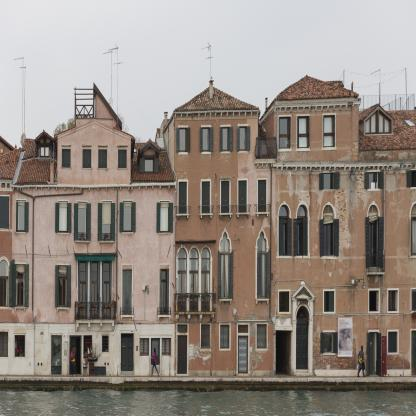Balcony: (75, 301, 116, 319)
Building Outline: (0, 74, 416, 376)
Cornice: (291, 284, 316, 301), (176, 240, 216, 244)
Door: (296, 321, 310, 370), (121, 333, 134, 375), (70, 335, 82, 375), (51, 335, 62, 375), (369, 332, 379, 376), (90, 280, 100, 319), (238, 335, 248, 373), (178, 335, 187, 374), (178, 272, 187, 311), (189, 272, 198, 311), (201, 272, 210, 311), (102, 281, 111, 319), (78, 281, 87, 319), (411, 331, 416, 376)
Facade: (0, 79, 416, 377)
Floor: (276, 167, 416, 279), (0, 248, 175, 324), (0, 189, 175, 247), (175, 226, 276, 315), (175, 168, 276, 226)
Floor Slab: (0, 319, 175, 324), (0, 185, 175, 189), (0, 243, 175, 247), (276, 163, 416, 167), (276, 275, 416, 279), (175, 221, 276, 226), (175, 311, 276, 316), (175, 164, 276, 168)
Ground Floor: (276, 279, 416, 375), (0, 324, 175, 375), (175, 316, 276, 376)
Molding: (12, 182, 176, 192), (272, 162, 416, 171), (273, 101, 362, 112), (173, 110, 261, 118), (0, 180, 12, 188)
Roof: (358, 103, 416, 152), (0, 138, 57, 185), (274, 74, 359, 102), (175, 85, 260, 112), (131, 141, 174, 183)
Sill: (254, 159, 276, 168), (255, 298, 270, 305), (176, 213, 190, 219), (199, 213, 213, 219), (157, 314, 171, 320), (219, 299, 232, 305), (218, 213, 233, 218), (255, 212, 270, 217), (57, 307, 69, 313), (236, 212, 250, 217), (121, 315, 134, 320), (14, 307, 26, 312), (366, 272, 385, 275), (99, 240, 115, 243), (75, 240, 90, 243), (57, 233, 70, 235), (121, 232, 134, 234)
Top Floor: (276, 99, 416, 167), (39, 127, 156, 189), (175, 111, 276, 168)
Window: (365, 110, 391, 134), (368, 218, 379, 268), (122, 270, 132, 315), (257, 253, 267, 298), (220, 253, 230, 298), (58, 265, 68, 307), (297, 218, 308, 256), (279, 218, 290, 256), (160, 270, 169, 315), (102, 202, 112, 241), (16, 264, 25, 307), (323, 116, 335, 148), (297, 116, 309, 148), (77, 202, 87, 240), (279, 117, 291, 148), (324, 221, 334, 256), (151, 338, 160, 374), (123, 201, 133, 232), (58, 202, 68, 232), (0, 196, 9, 229), (17, 200, 26, 232), (160, 201, 169, 232), (258, 180, 266, 212), (221, 181, 229, 213), (257, 324, 267, 349), (1, 276, 9, 307), (179, 182, 187, 213), (202, 182, 210, 213), (239, 181, 247, 212), (257, 230, 267, 252), (220, 231, 230, 253), (15, 336, 25, 358), (221, 325, 230, 349), (202, 128, 211, 152), (221, 127, 230, 151), (324, 332, 334, 353), (324, 291, 334, 312), (369, 291, 379, 312), (388, 332, 398, 353), (388, 290, 398, 311), (90, 260, 100, 281), (201, 325, 210, 348), (0, 332, 8, 357), (239, 126, 247, 151), (280, 292, 290, 312), (296, 306, 310, 320), (179, 128, 187, 152), (411, 217, 416, 255), (102, 260, 111, 281), (78, 260, 87, 281), (369, 172, 380, 189), (84, 336, 92, 359), (323, 173, 334, 189), (118, 150, 127, 169), (62, 149, 71, 168), (98, 150, 107, 169), (162, 338, 171, 356), (323, 205, 335, 218), (368, 204, 379, 218), (140, 339, 149, 356), (83, 150, 91, 169), (279, 204, 290, 217), (297, 204, 308, 217), (145, 158, 154, 173), (189, 258, 198, 272), (201, 258, 210, 272), (102, 336, 109, 353), (178, 258, 187, 271), (411, 289, 416, 311), (177, 248, 187, 258), (189, 248, 199, 258), (40, 146, 49, 157), (201, 247, 210, 258), (411, 170, 416, 187), (178, 325, 188, 333), (238, 325, 248, 333), (404, 119, 415, 126)
